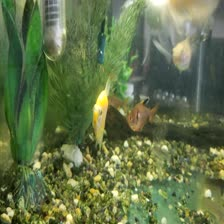Guppy: (168, 28, 200, 77)
Plano: (88, 76, 116, 146)
Transparente: (123, 97, 165, 132)
